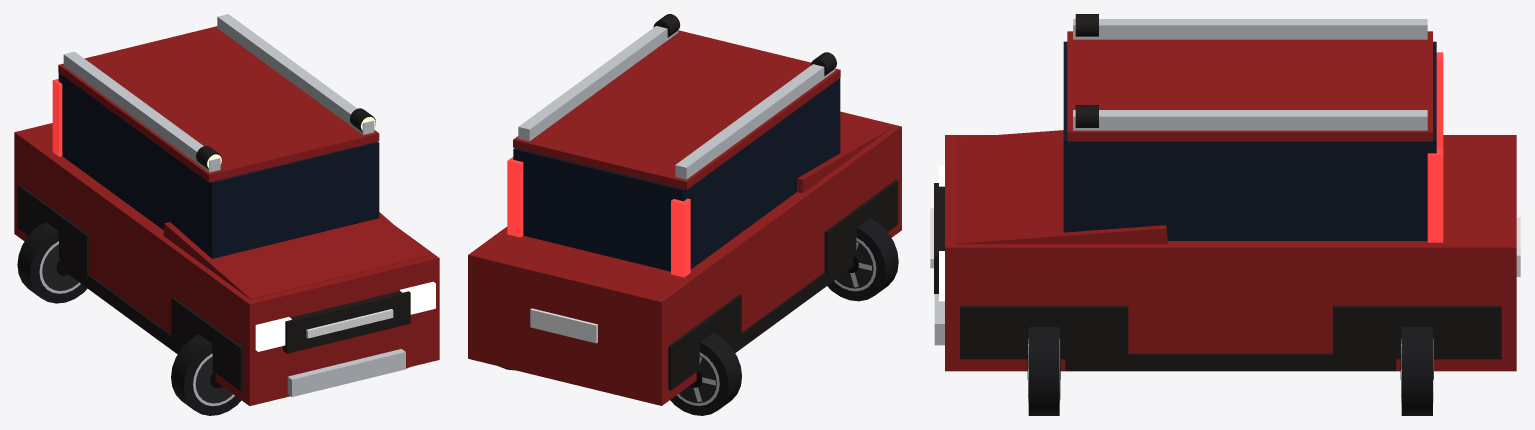
File: nissan_xtrail_t31.glb
3 renders of one model, left to right at view 1: azimuth 30°, elevation 25°; view 2: azimuth 150°, elevation 25°; view 3: azimuth 270°, elevation 25°, orthographic. The views are drawn at different scales.
Visible parts, largest first — view 1: Nissan_XTrail_T31; view 2: Nissan_XTrail_T31; view 3: Nissan_XTrail_T31.
Part boxes in pixels (x1,y1,x2,y2): Nissan_XTrail_T31: (14,14,439,415); Nissan_XTrail_T31: (468,14,901,415); Nissan_XTrail_T31: (930,14,1520,415).
Size of the model in its own units: 2.73 by 2.52 by 4.54.
